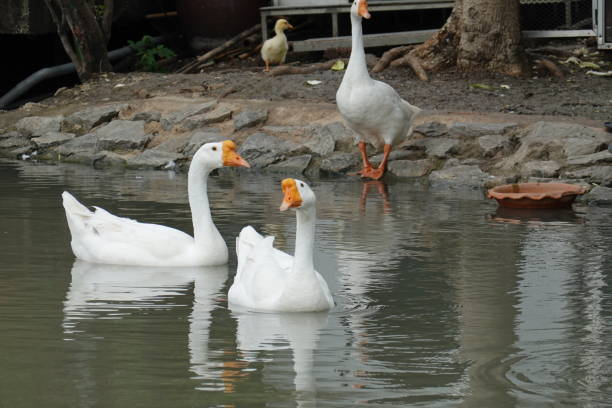goose: (54, 134, 258, 276), (328, 1, 422, 199), (225, 177, 333, 328)
